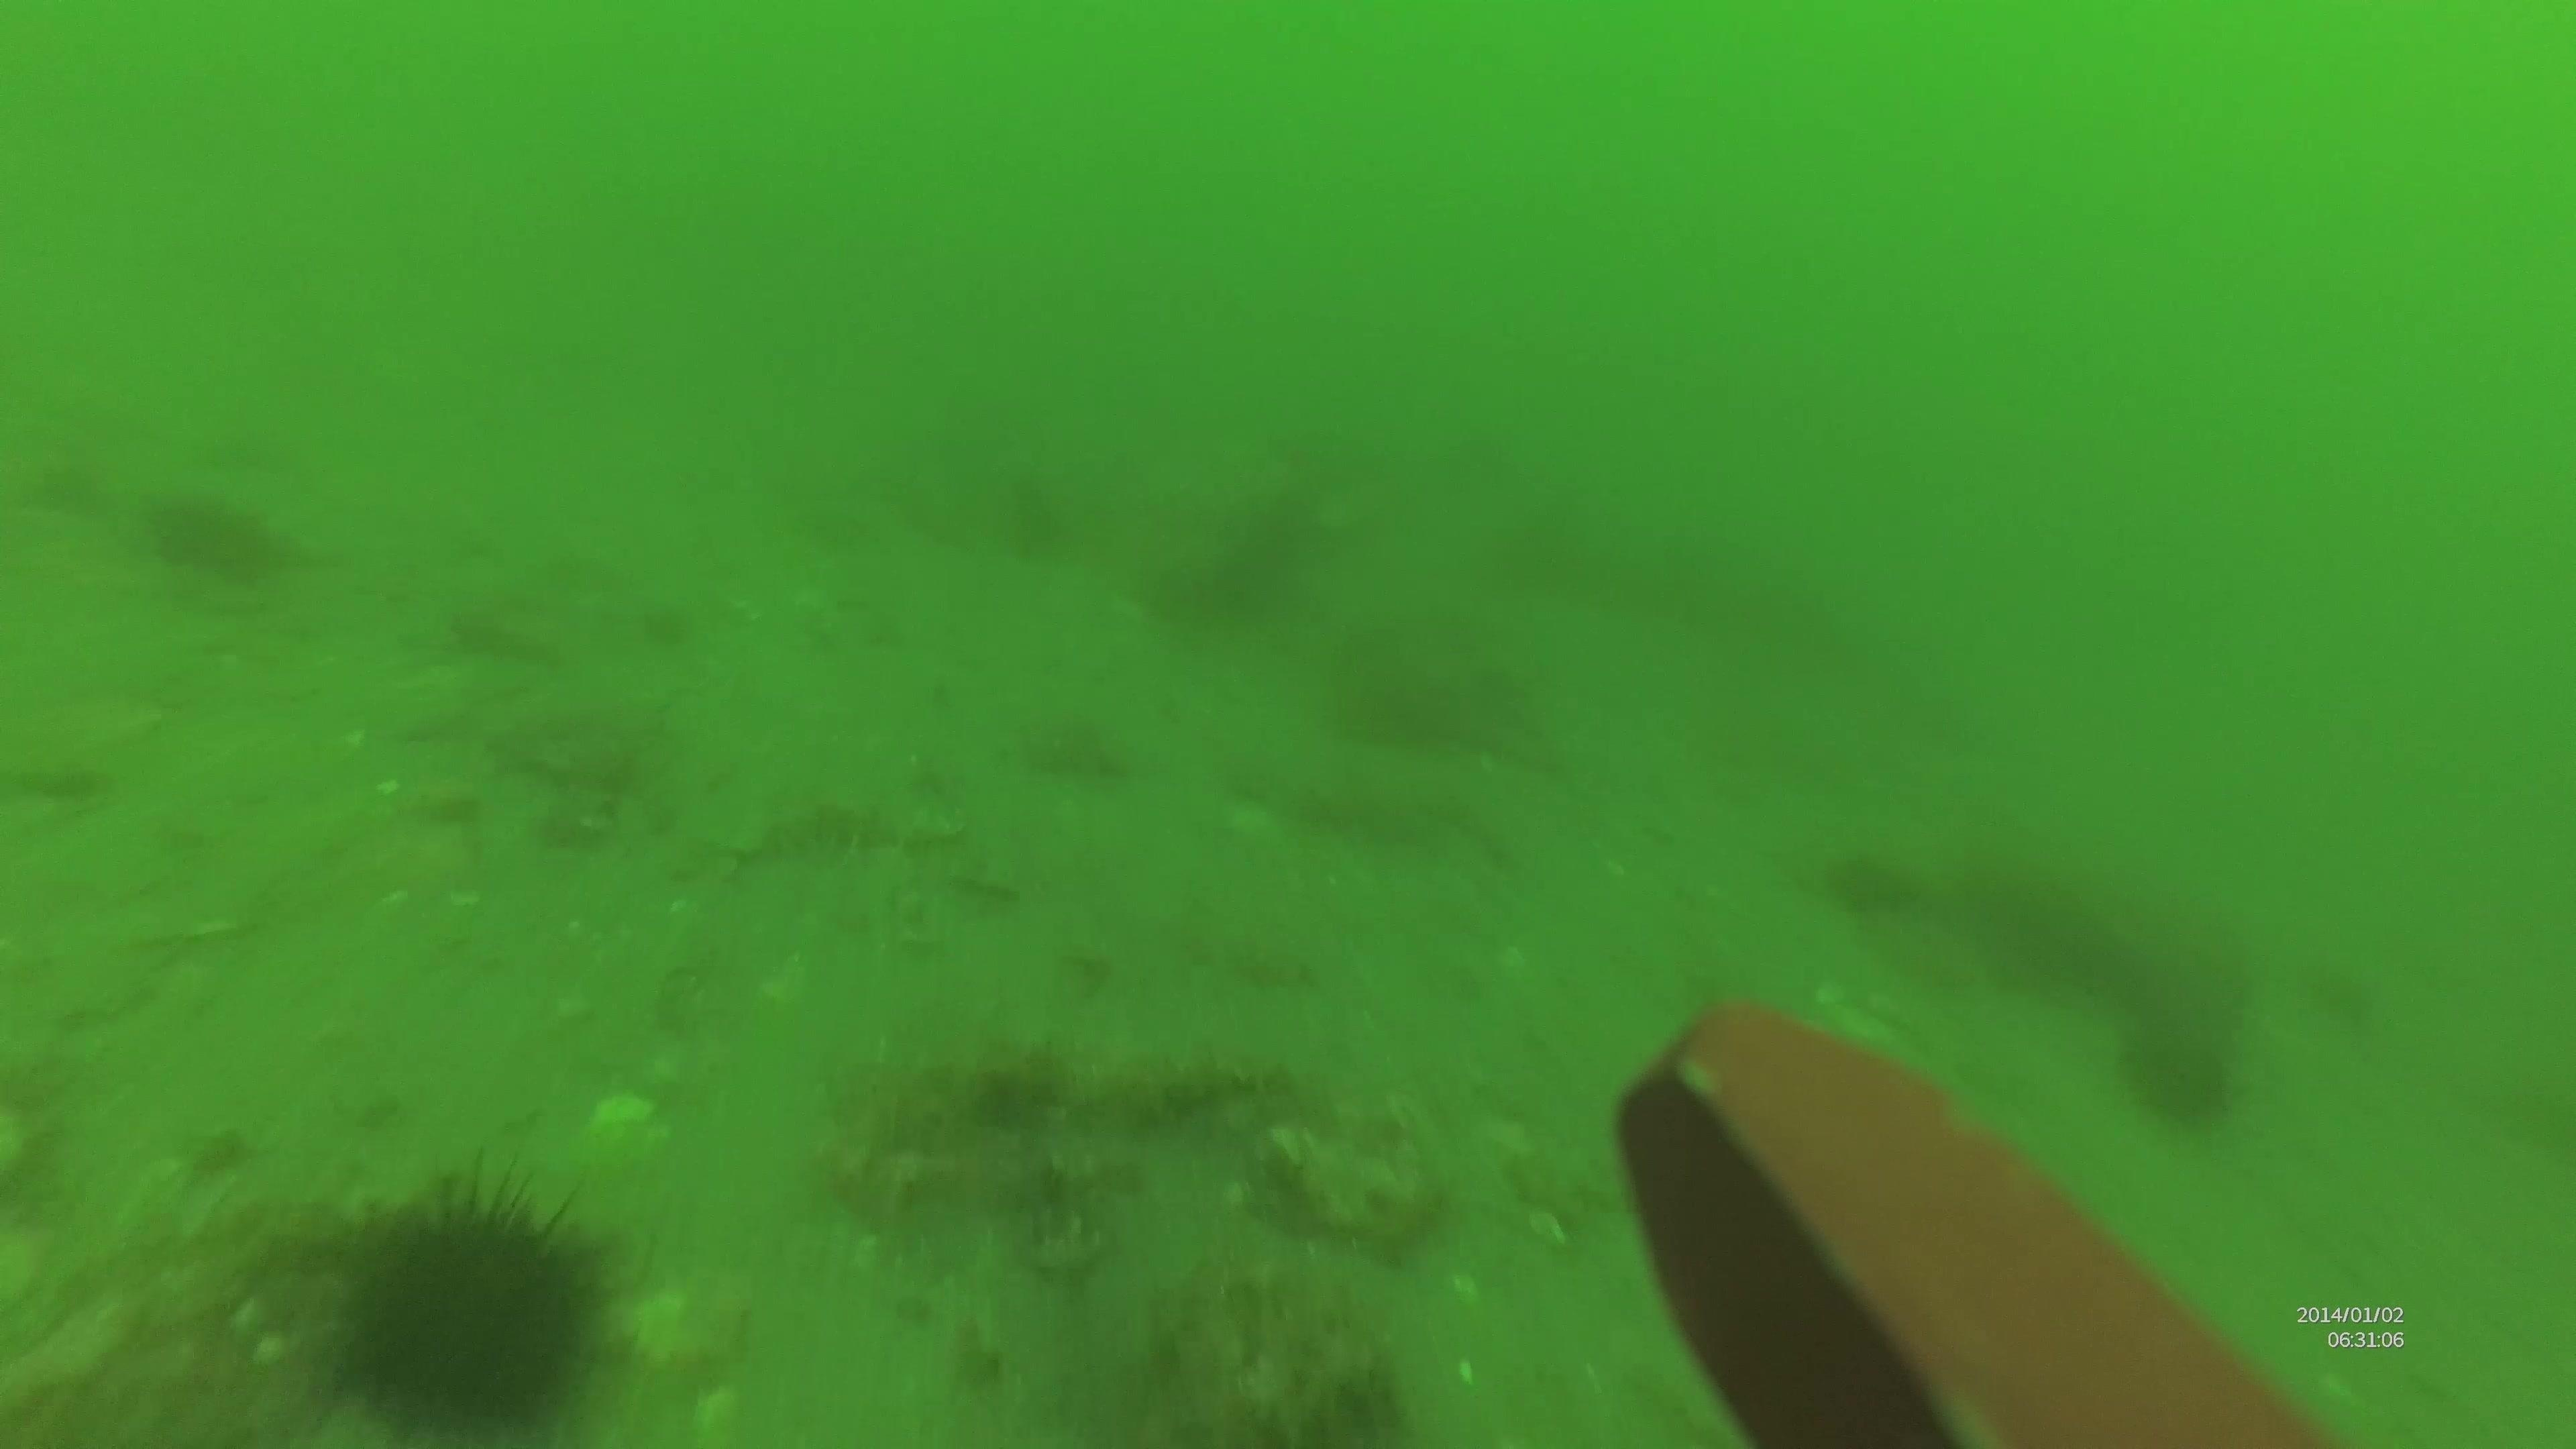echinus: (304, 1159, 632, 1437), (138, 481, 294, 591), (2112, 1008, 2243, 1136)
